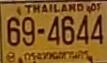4: (76, 14, 88, 44), (90, 14, 102, 43), (47, 16, 59, 44)
6: (61, 15, 74, 44), (6, 16, 19, 45)
9: (21, 16, 34, 45)
SRI: (24, 48, 91, 62)
